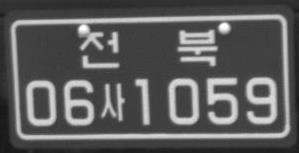0: (167, 76, 200, 125), (25, 78, 57, 127)
1: (131, 77, 156, 125)
5: (206, 76, 238, 125)
6: (62, 78, 95, 127)
9: (244, 75, 278, 125)
사: (100, 82, 125, 122)
전북_D: (80, 27, 219, 69)
